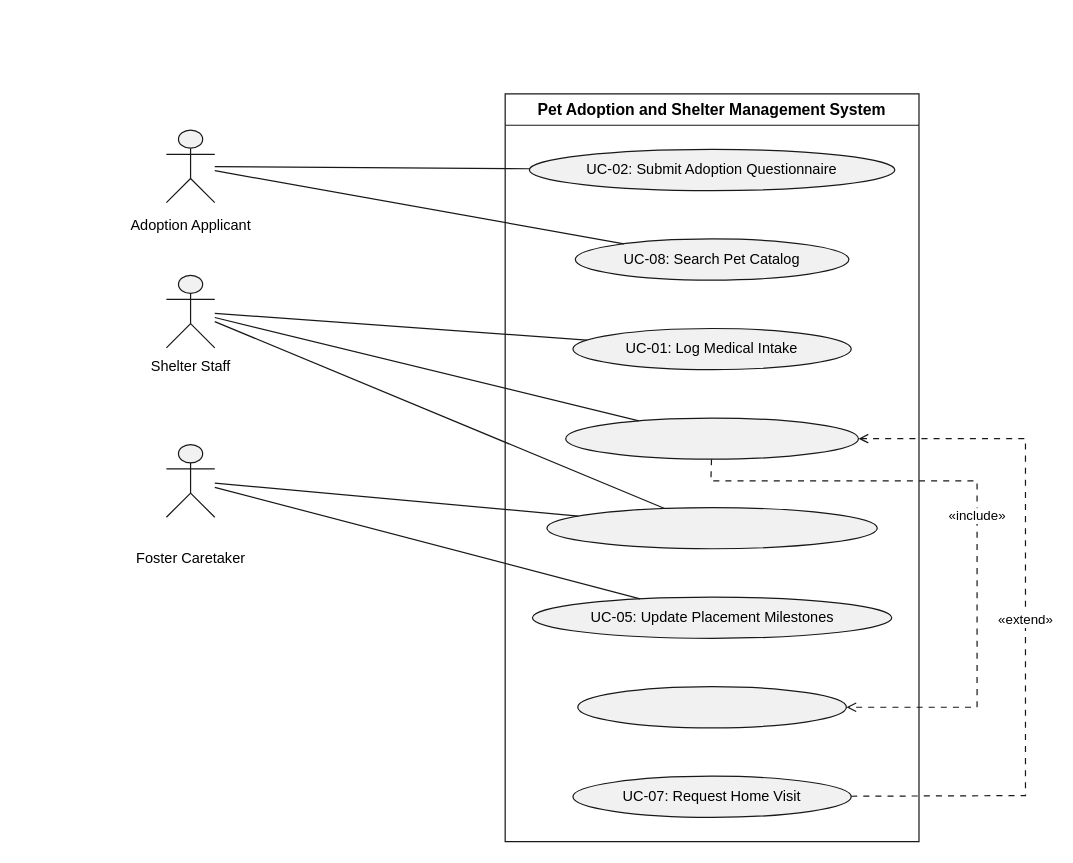
The diagram is 1073 pixels wide and 863 high, and some of its shapes have lost their labels. The centre of each missing label's shape, as x and y in pixels:
"UC-03: Screen Questionnaire" belongs at point 711,438.
"UC-04: Manage Foster Placement" belongs at point 711,527.
"UC-06: Verify Background" belongs at point 711,706.
